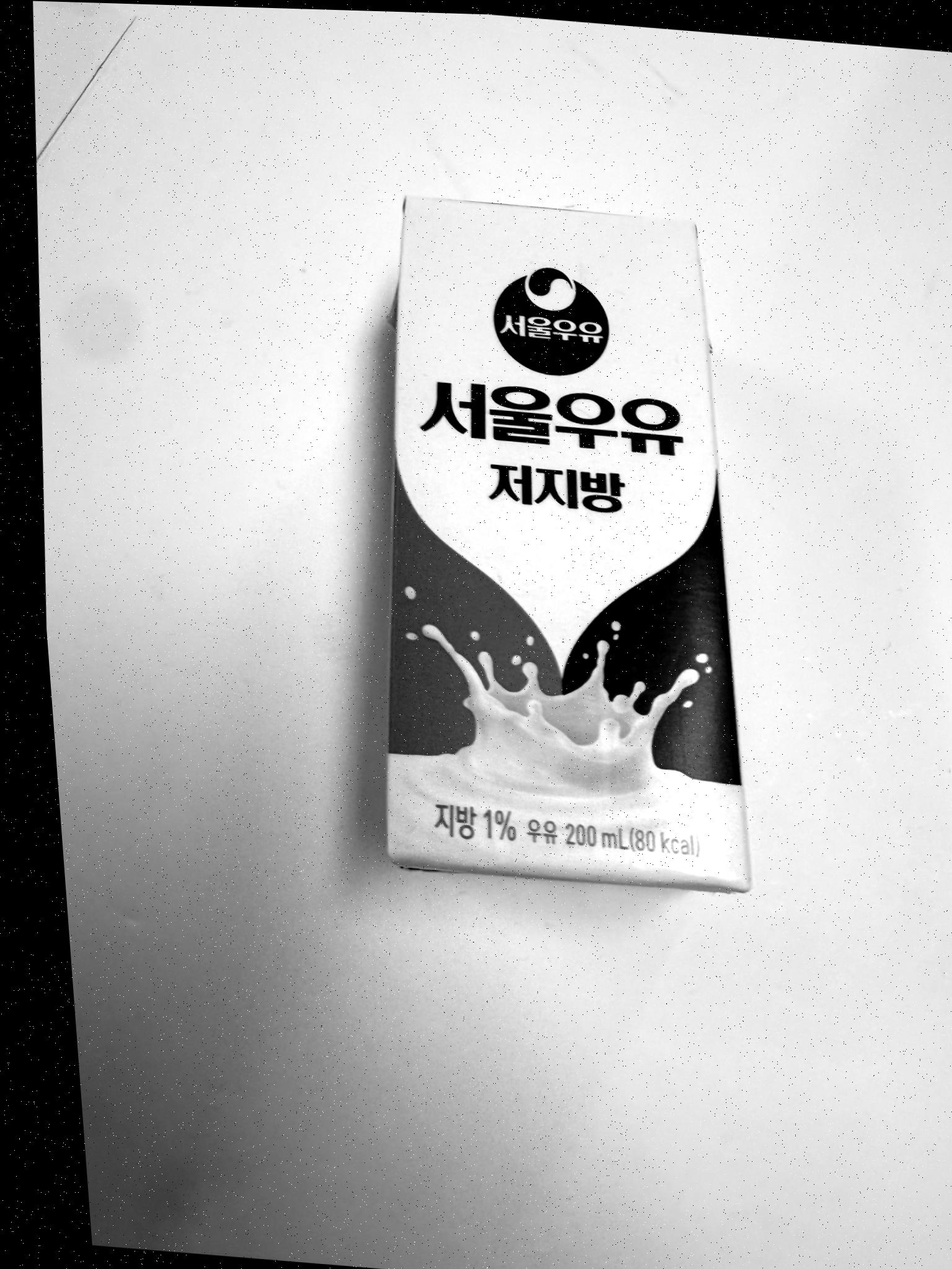milk_blue: (386, 199, 749, 891)
